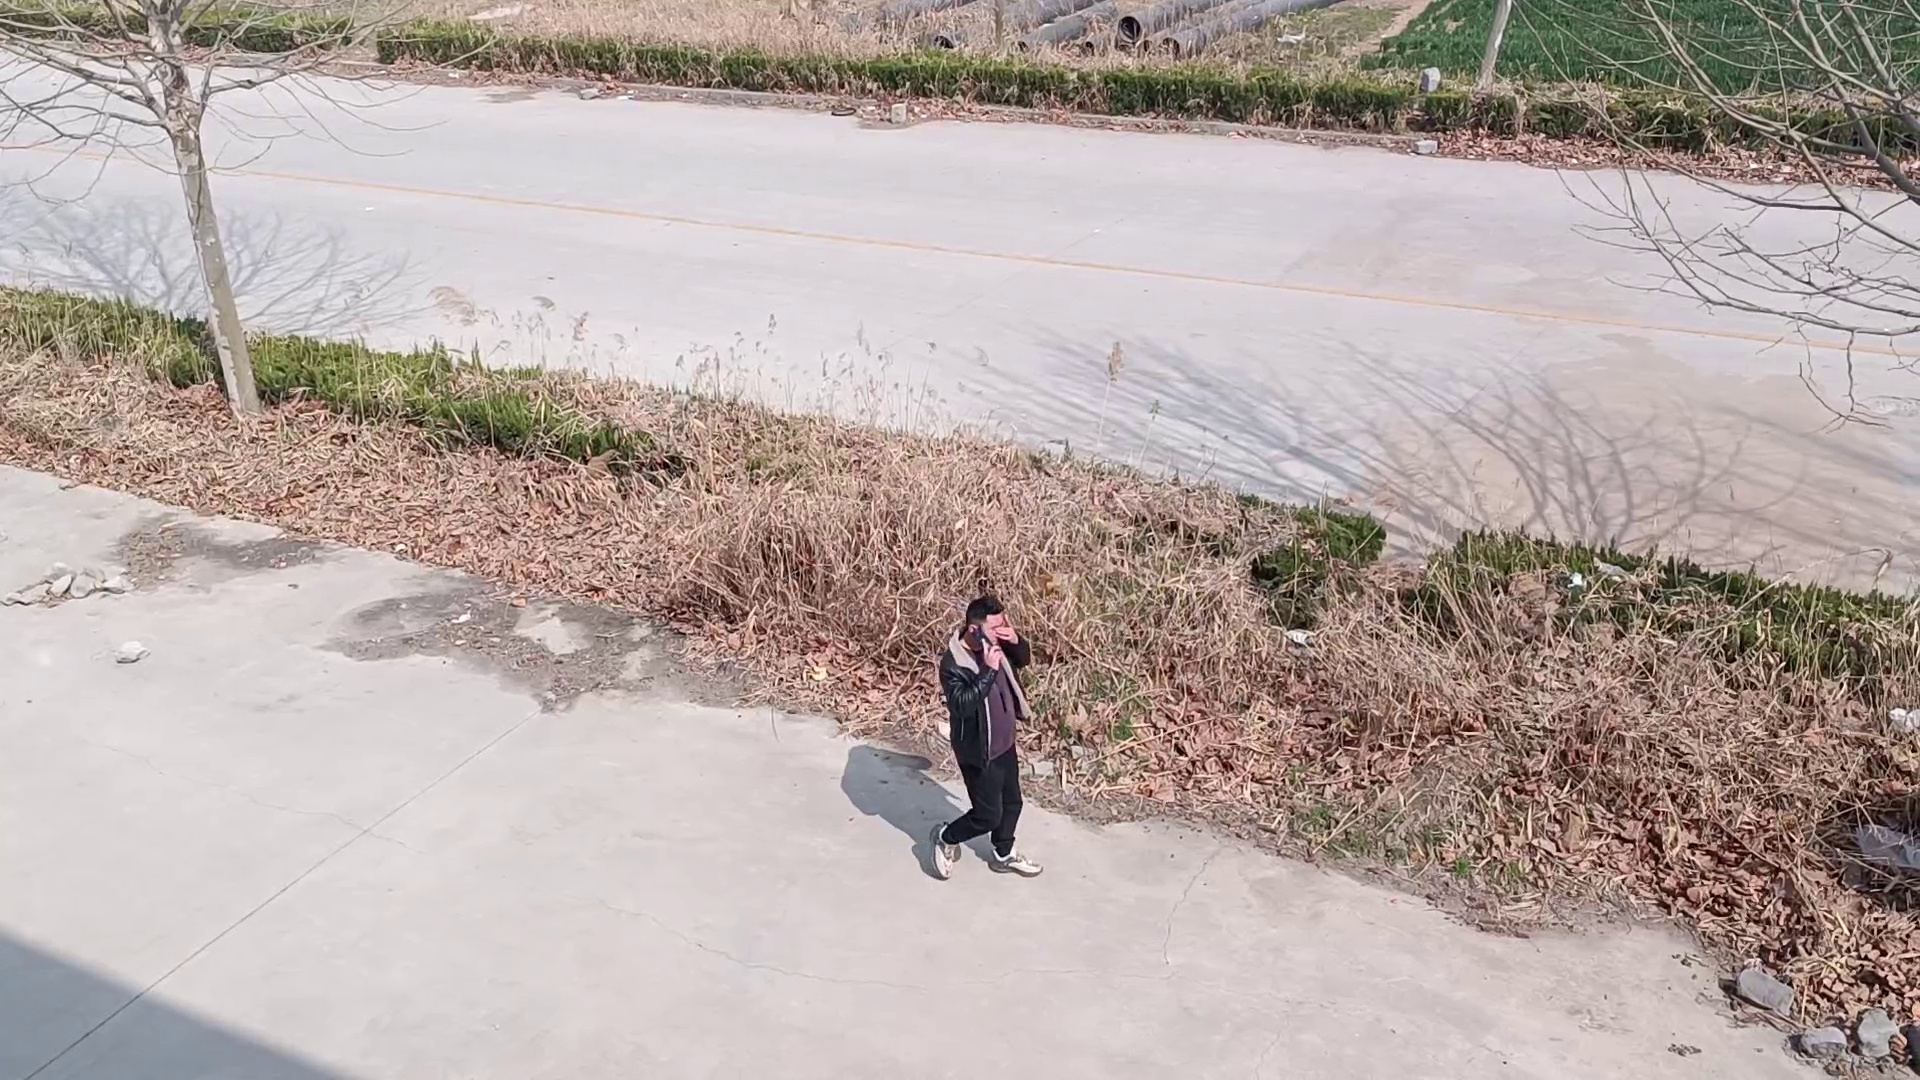phone: (960, 585, 1009, 663)
